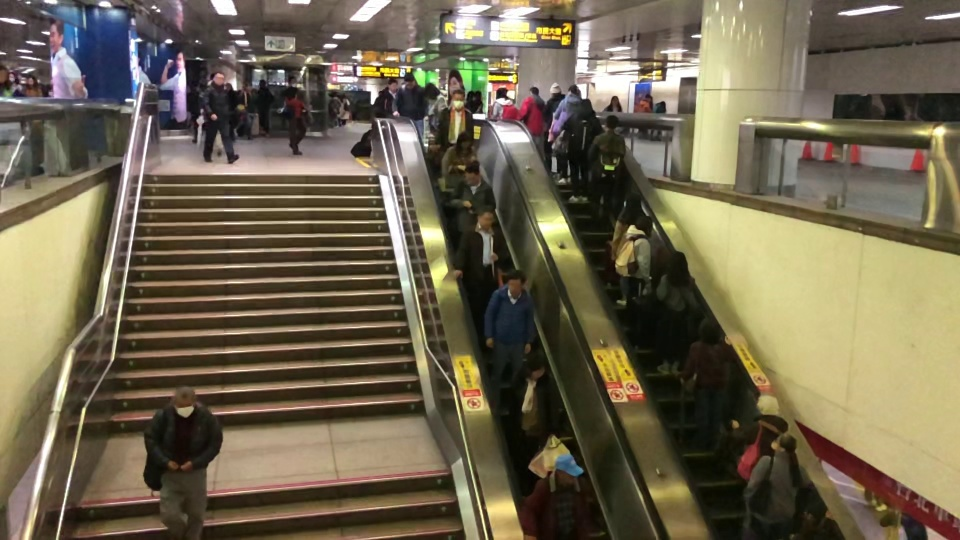person_head: (171, 383, 197, 416), (756, 393, 781, 418), (525, 349, 548, 376), (504, 270, 529, 293), (698, 318, 720, 344), (555, 458, 575, 485), (769, 432, 798, 450), (477, 205, 495, 230), (623, 191, 643, 211), (464, 161, 480, 185), (668, 251, 687, 271), (423, 81, 440, 100), (604, 114, 620, 132), (457, 131, 473, 147), (635, 216, 651, 232), (452, 88, 464, 109), (580, 97, 592, 113), (0, 64, 8, 85), (213, 70, 224, 85), (404, 72, 414, 88), (387, 79, 398, 93), (495, 87, 506, 98), (568, 83, 578, 95), (551, 84, 560, 95), (288, 76, 296, 88), (27, 76, 35, 86), (243, 82, 252, 90), (529, 86, 538, 94), (10, 72, 17, 82), (611, 96, 621, 103), (258, 78, 266, 86), (660, 100, 667, 108), (644, 94, 650, 101)
person_vbox: (143, 384, 223, 540), (483, 269, 535, 402), (679, 318, 732, 444), (521, 457, 600, 540), (510, 348, 560, 455), (655, 250, 696, 377), (731, 393, 789, 479), (452, 205, 505, 293), (743, 431, 805, 506), (587, 114, 625, 233), (610, 190, 644, 305), (563, 98, 600, 201), (202, 70, 242, 164), (615, 215, 652, 301), (450, 162, 495, 230), (554, 83, 580, 185), (280, 75, 308, 156), (439, 89, 474, 149), (440, 131, 474, 190), (544, 83, 563, 177), (421, 80, 447, 147), (519, 86, 546, 149), (392, 72, 422, 120), (236, 80, 258, 139), (491, 85, 519, 122), (257, 77, 274, 136), (373, 78, 400, 114), (633, 93, 651, 139), (0, 64, 21, 97), (652, 99, 667, 143), (603, 94, 625, 113), (9, 71, 25, 97), (25, 76, 42, 96)
